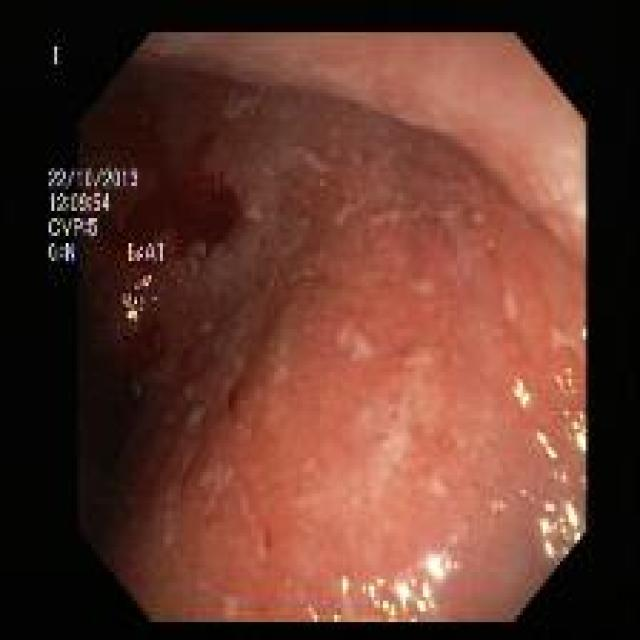ulcerative-colitis: (49, 33, 585, 622)
